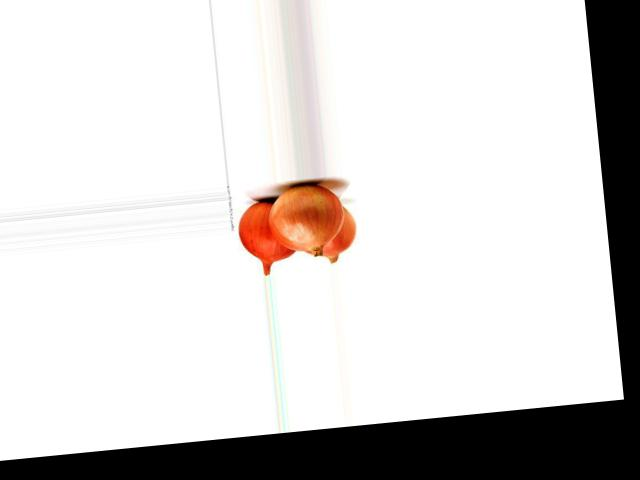onion: (235, 193, 299, 272)
